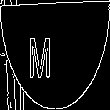M_N: (43, 29, 67, 81)
